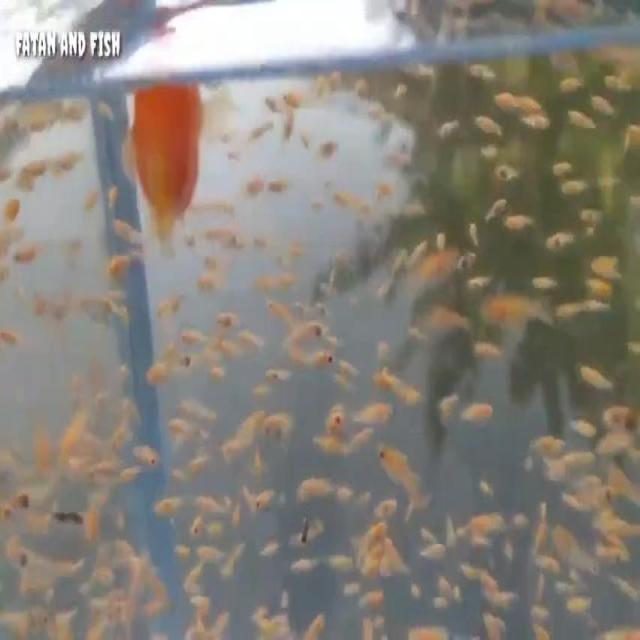PlatyFish: (114, 75, 214, 253)
